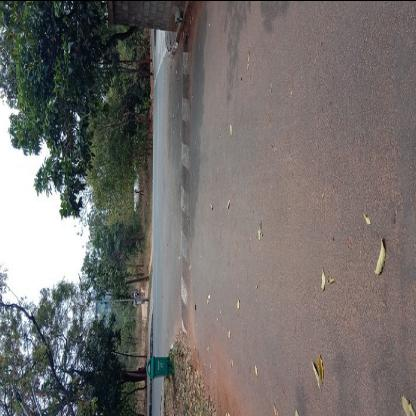speed-bumps: (172, 20, 196, 358)
